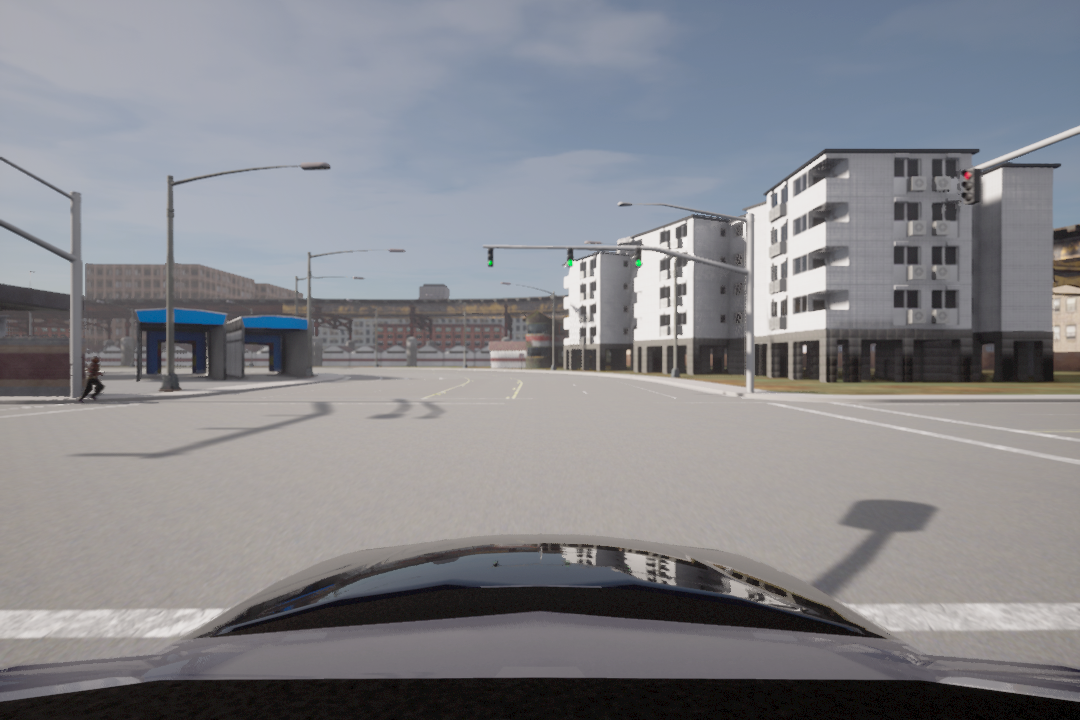TrafficLight: (958, 167, 979, 202), (634, 247, 643, 271), (566, 246, 575, 267), (486, 245, 495, 265)
